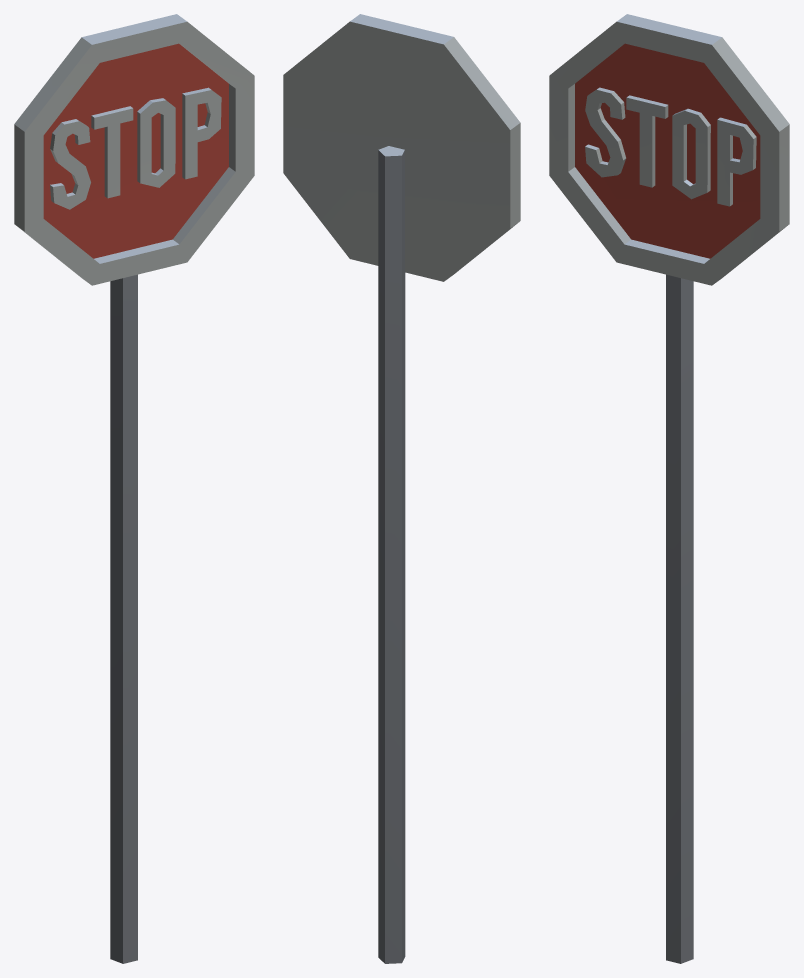
File: sign_stop.glb
3 renders of one model, left to right at view 1: azimuth 30°, elevation 25°; view 2: azimuth 150°, elevation 25°; view 3: azimuth 330°, elevation 25°, orthographic.
Visible parts, largest first — view 1: Prop; view 2: Prop; view 3: Prop.
Part boxes in pixels (x1=…): Prop: x1=14, y1=14, x2=254, y2=963; Prop: x1=283, y1=14, x2=520, y2=963; Prop: x1=549, y1=14, x2=789, y2=963.
Size of the model in its own units: 0.6693 by 2.6 by 0.1125.
